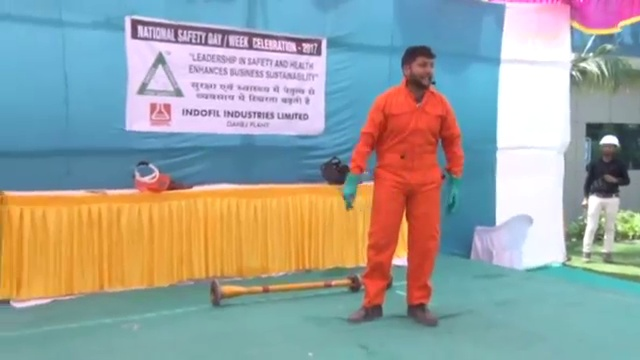helmet: (598, 134, 621, 149)
helmet_off: (401, 44, 436, 90)
helmet_on: (596, 133, 622, 163)
person: (338, 44, 465, 322), (579, 131, 630, 267)
